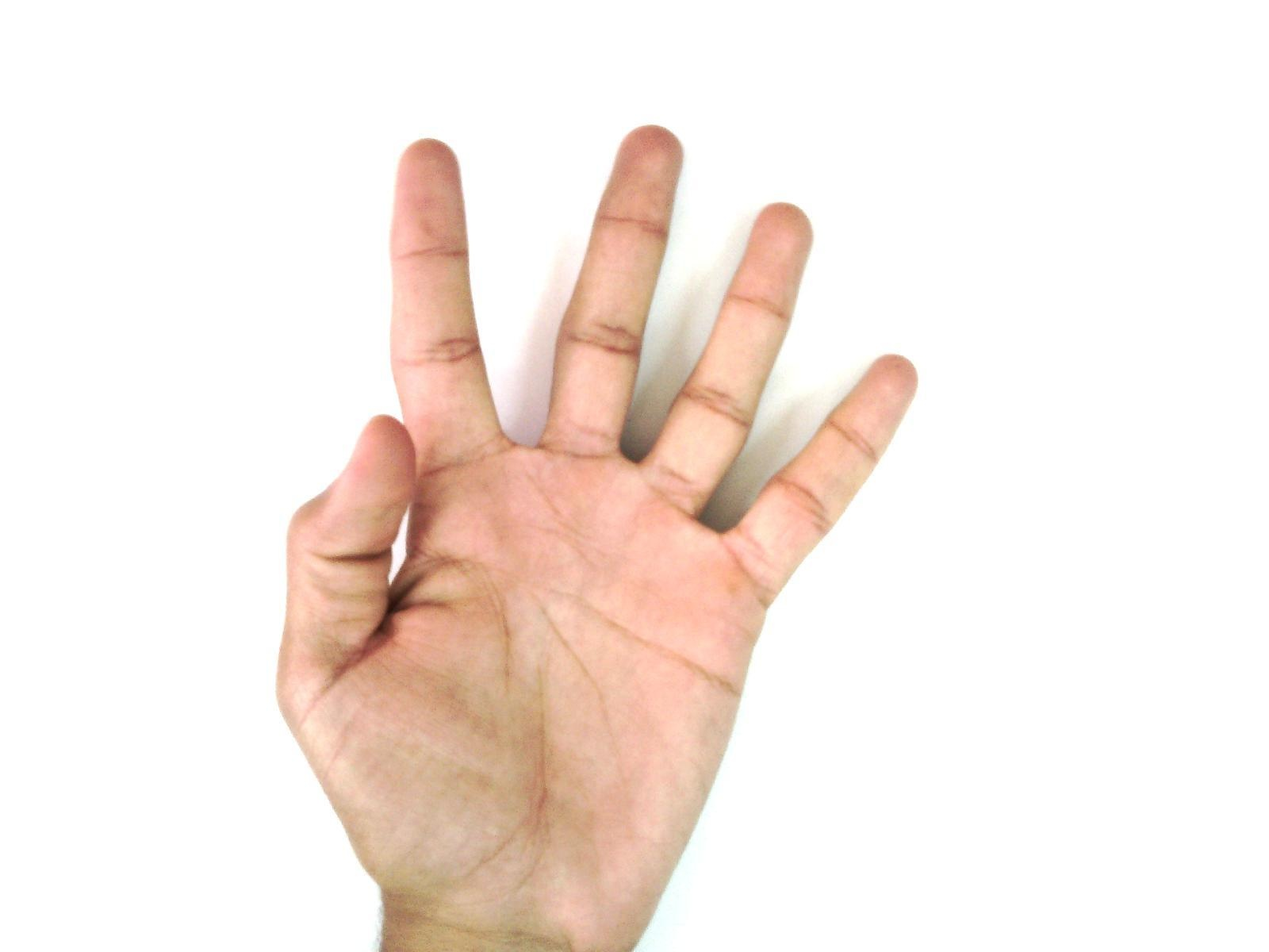open_palm: (273, 124, 921, 950)
